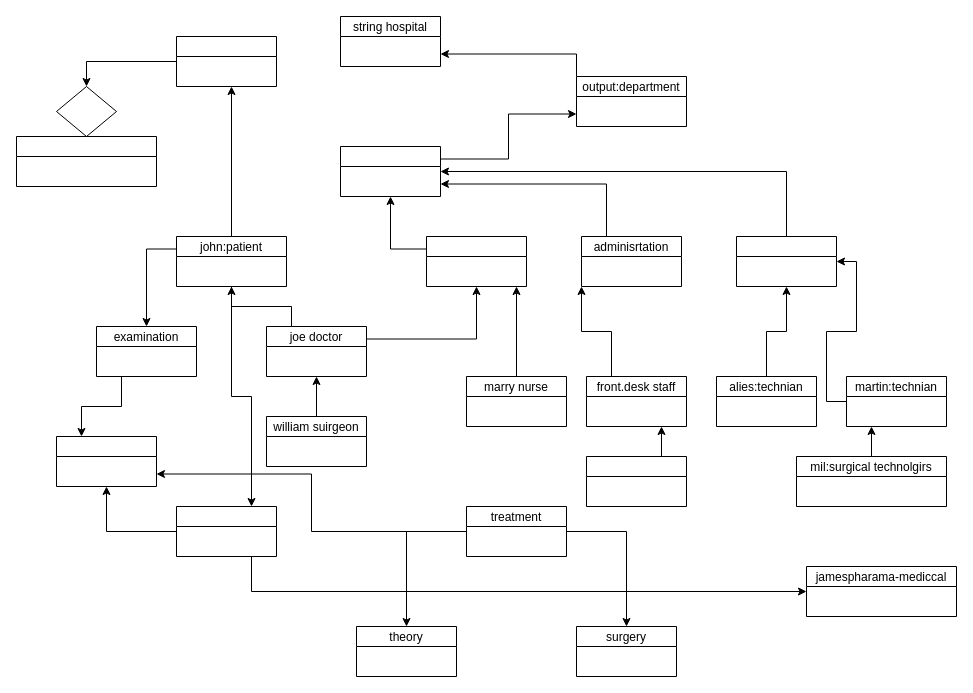
Some shapes in this 973 by 693 pixel diagram are drawn without their labels. Here are the shapes that lost their labels. From the top down, the centre of each, then its label:
At point (226, 61): "person".
At point (86, 161): "michel's contain:catring".
At point (390, 171): "staff".
At point (476, 261): "operation staff".
At point (786, 261): "technical staff".
At point (106, 461): "diagonsis".
At point (636, 481): "kari reception".
At point (226, 531): "prescription".
